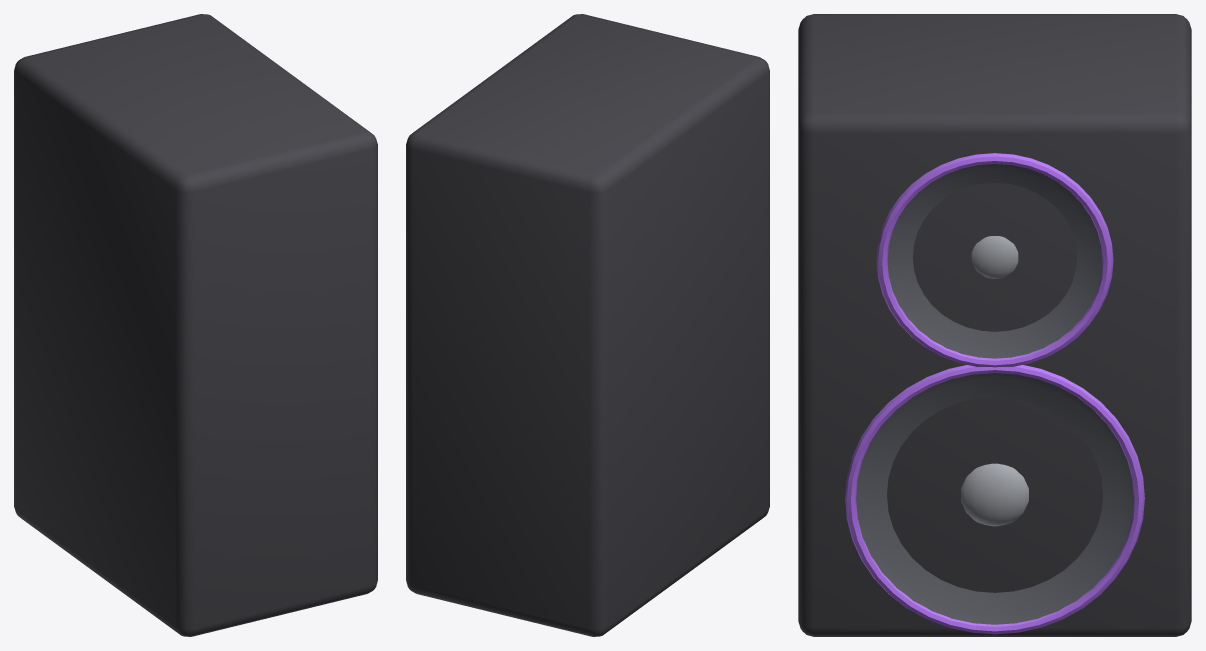
The model's file is SM_GiantSpeaker.glb.
3 views of the same model, side by side, from view 1: azimuth 30°, elevation 25°; view 2: azimuth 150°, elevation 25°; view 3: azimuth 270°, elevation 25° (orthographic). The views are drawn at different scales.
Parts seen in each view (by area): view 1: SM_GiantSpeaker; view 2: SM_GiantSpeaker; view 3: SM_GiantSpeaker.
Boxes of the visible parts, bbox=[...] form: SM_GiantSpeaker: bbox=[14, 14, 377, 636]; SM_GiantSpeaker: bbox=[406, 14, 769, 636]; SM_GiantSpeaker: bbox=[798, 14, 1191, 636].
Bounding box in the file's own units: 1.05 × 2.2 × 1.5.
